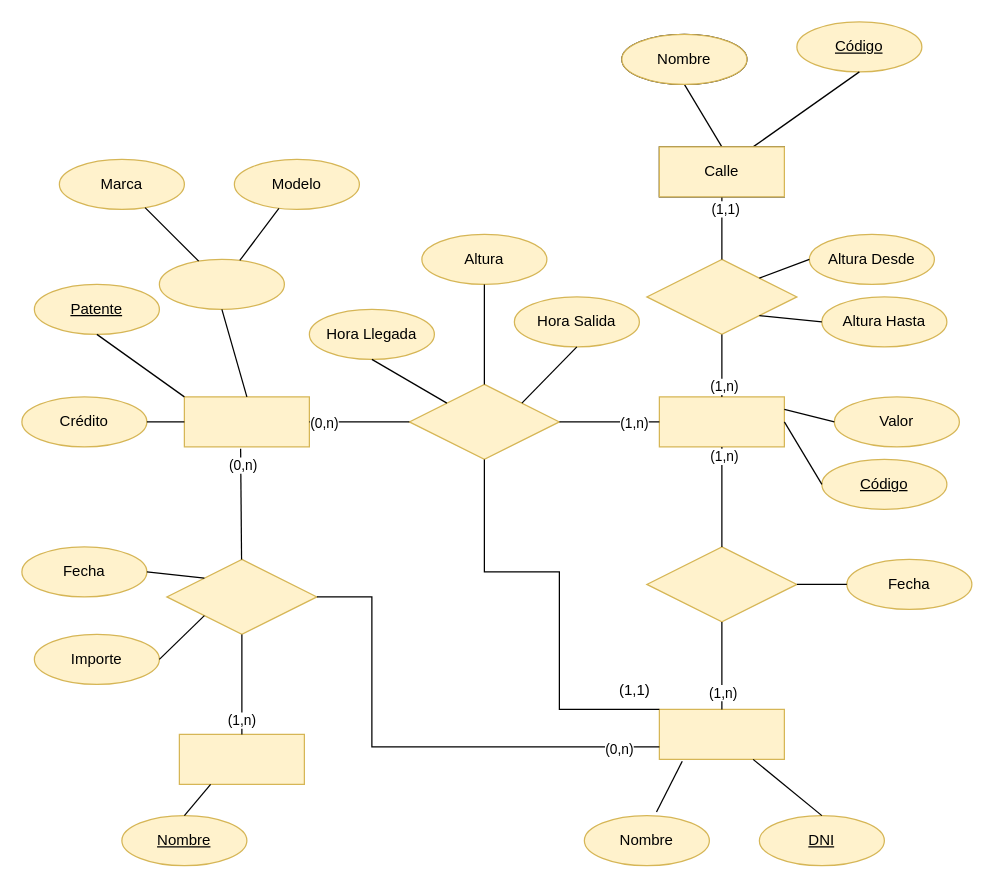
This 994x888 diagram has some shape labels left out. The box of each missing label's shape, as (x1, y1, x2, y2) in pixels:
Carga: (166, 558, 317, 634)
Estacionar: (408, 383, 559, 459)
Forma Pago: (178, 733, 304, 784)
Pertence: (646, 258, 797, 334)
Responsable: (658, 708, 784, 759)
Tipo: (158, 258, 284, 309)
Trabaja en: (646, 546, 797, 622)
Vehículo: (183, 396, 309, 447)
Zona EMI: (658, 396, 784, 447)
